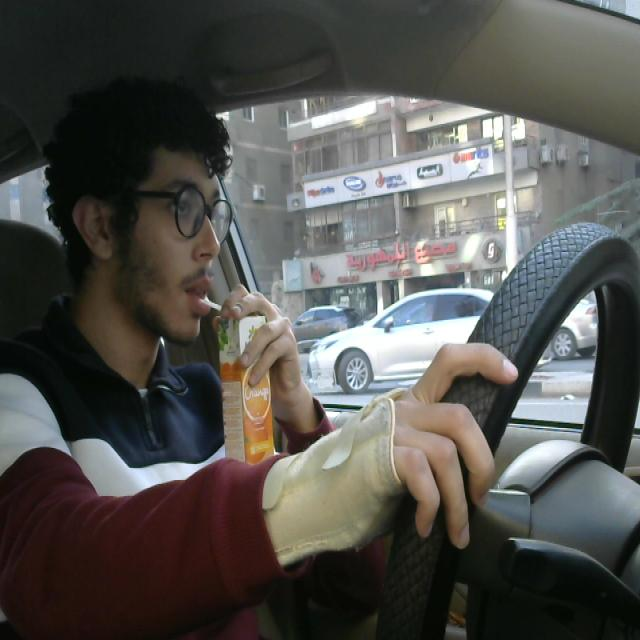drinking: (200, 287, 282, 479)
